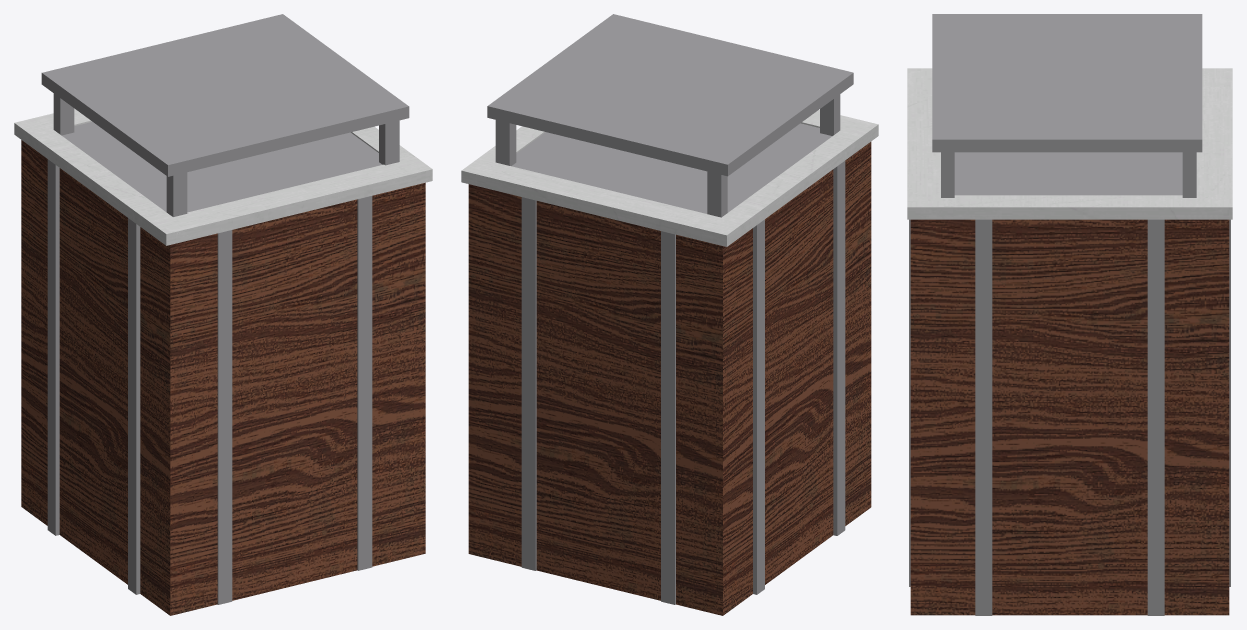
Rendered from tshcan.obj.
3 renders of one model, left to right at view 1: azimuth 30°, elevation 25°; view 2: azimuth 150°, elevation 25°; view 3: azimuth 270°, elevation 25°, orthographic. The views are drawn at different scales.
Parts seen in each view (by area): view 1: tshcan; view 2: tshcan; view 3: tshcan.
Part boxes in pixels (x1,y1,x2,y2): tshcan: (14, 14, 432, 615); tshcan: (461, 14, 878, 615); tshcan: (907, 14, 1232, 615).
Size of the model in its own units: 1.1 by 1.75 by 1.09.
Materials: 4 (4 with a texture image).
